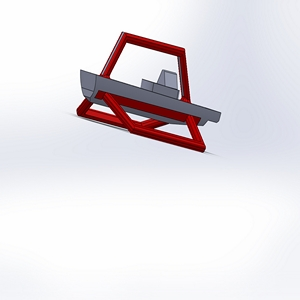submarine: (71, 21, 229, 181)
